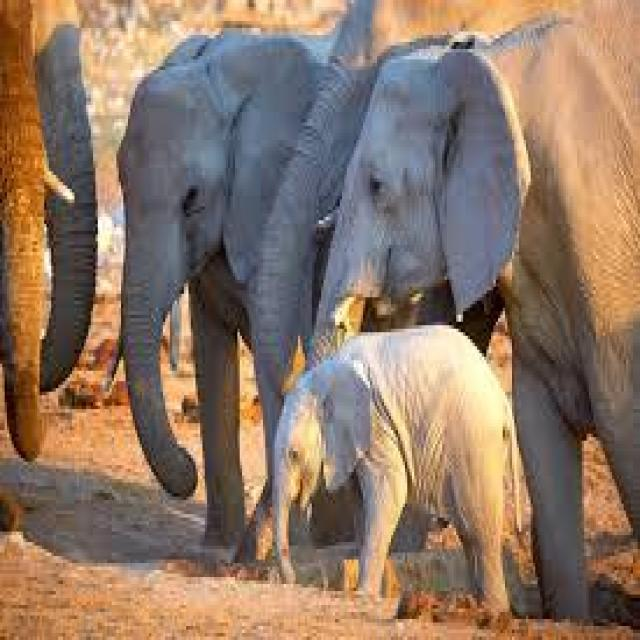Elephant: (307, 21, 638, 616), (266, 322, 522, 608)
